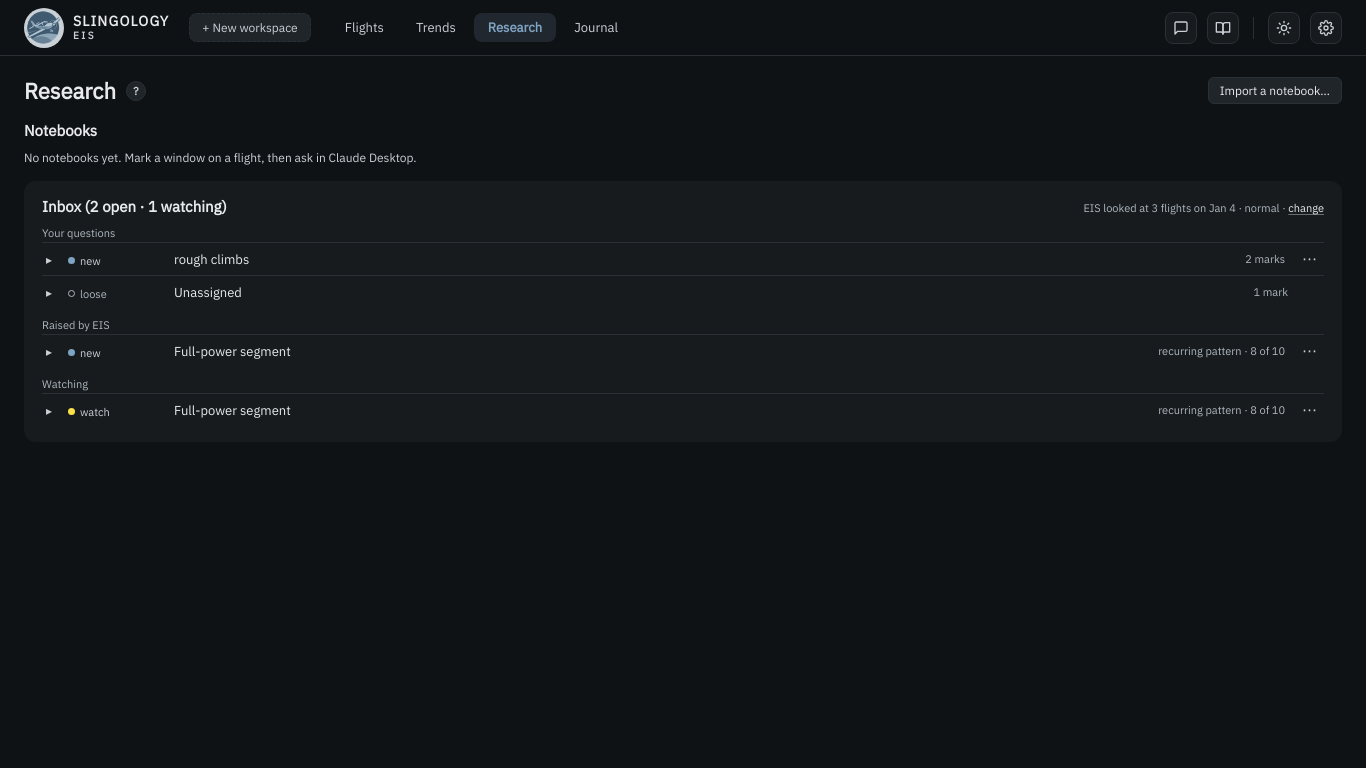
Scenario: the owner's questions in the digest (D16) › a question expands to its marks: flight, short local window, channel tags, the note; a mark opens its flight
Later steps or results of the test are not shown.
Click the button with test id "inbox-line" showing "▸ new rough climbs 2 marks": (212, 259) [42, 243, 1289, 275]
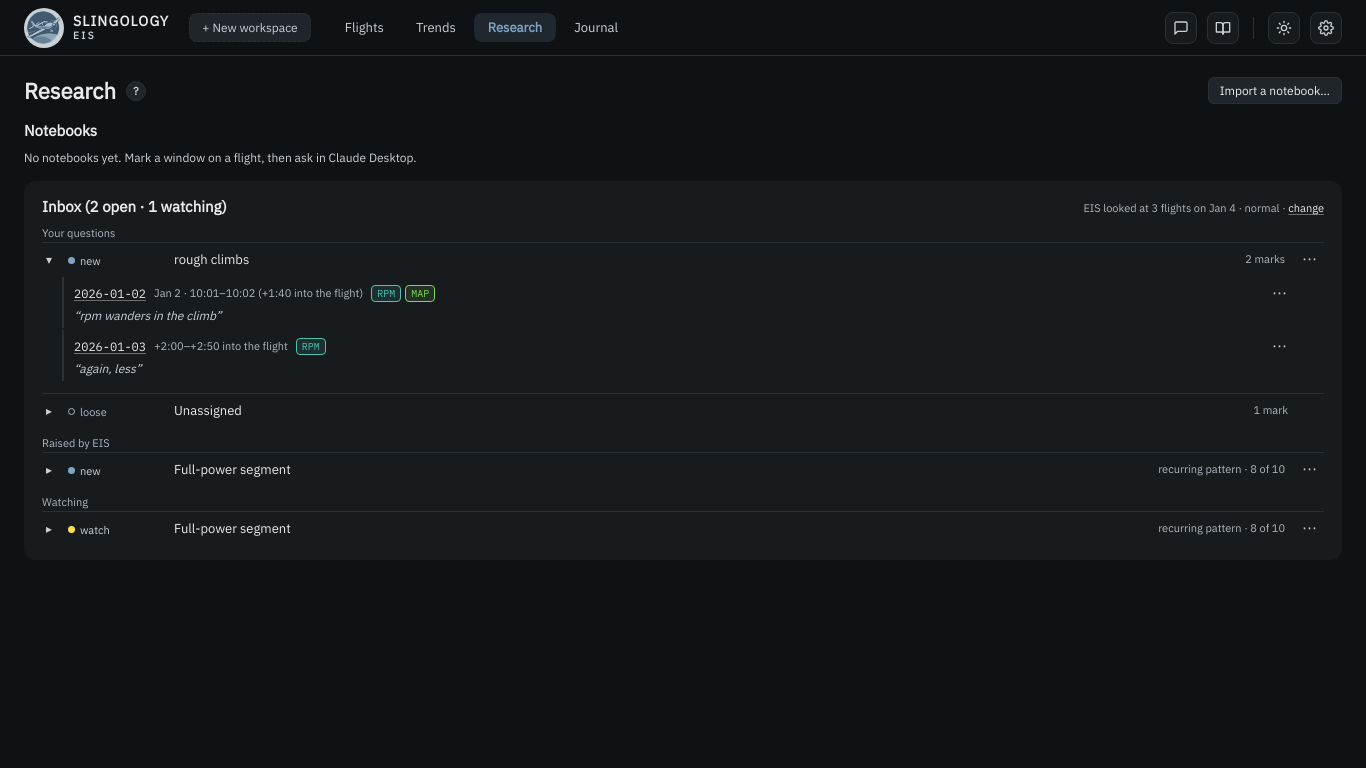
Expected: the text with test id "pin-when" reads "Jan 2 · 10:01–10:02 (+1:40 into the flight)", [154, 286, 363, 300]
Expected: the text with test id "pin-when" reads "+2:00–+2:50 into the flight", [154, 339, 288, 353]
